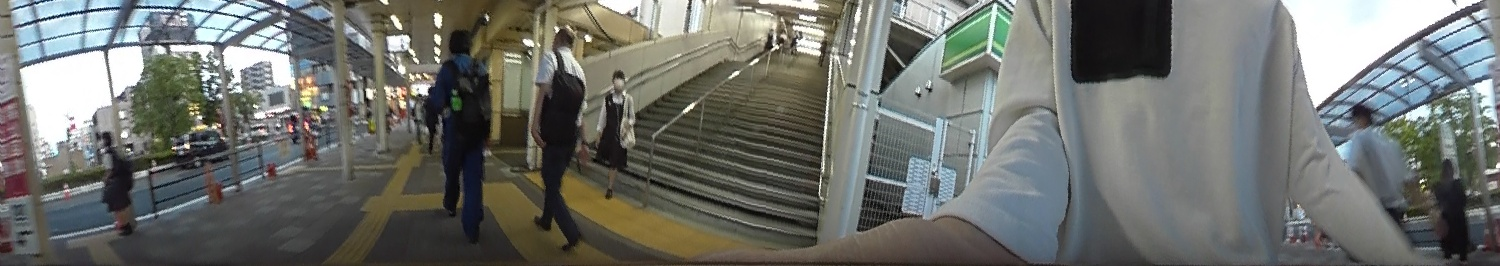difficult_person: (407, 91, 424, 142), (816, 29, 831, 66), (763, 24, 774, 60), (786, 29, 799, 58)
person: (520, 20, 600, 250), (428, 25, 501, 239), (1335, 98, 1408, 264), (85, 128, 147, 234), (594, 67, 643, 198), (1430, 150, 1475, 257)
